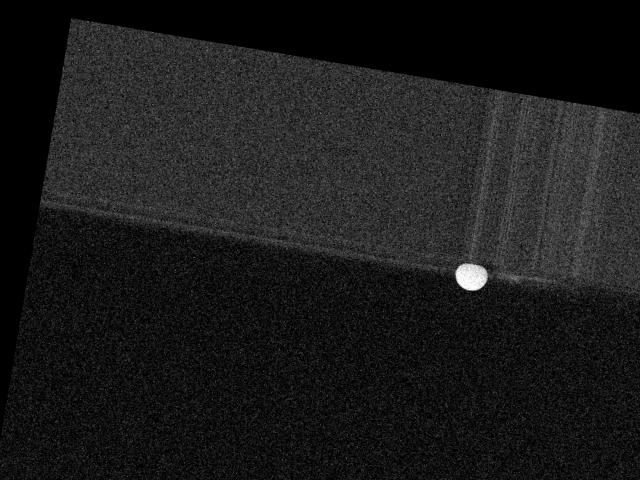egg: (453, 261, 490, 292)
